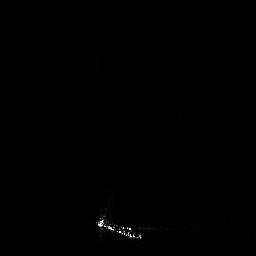ship: (92, 212, 145, 243)
